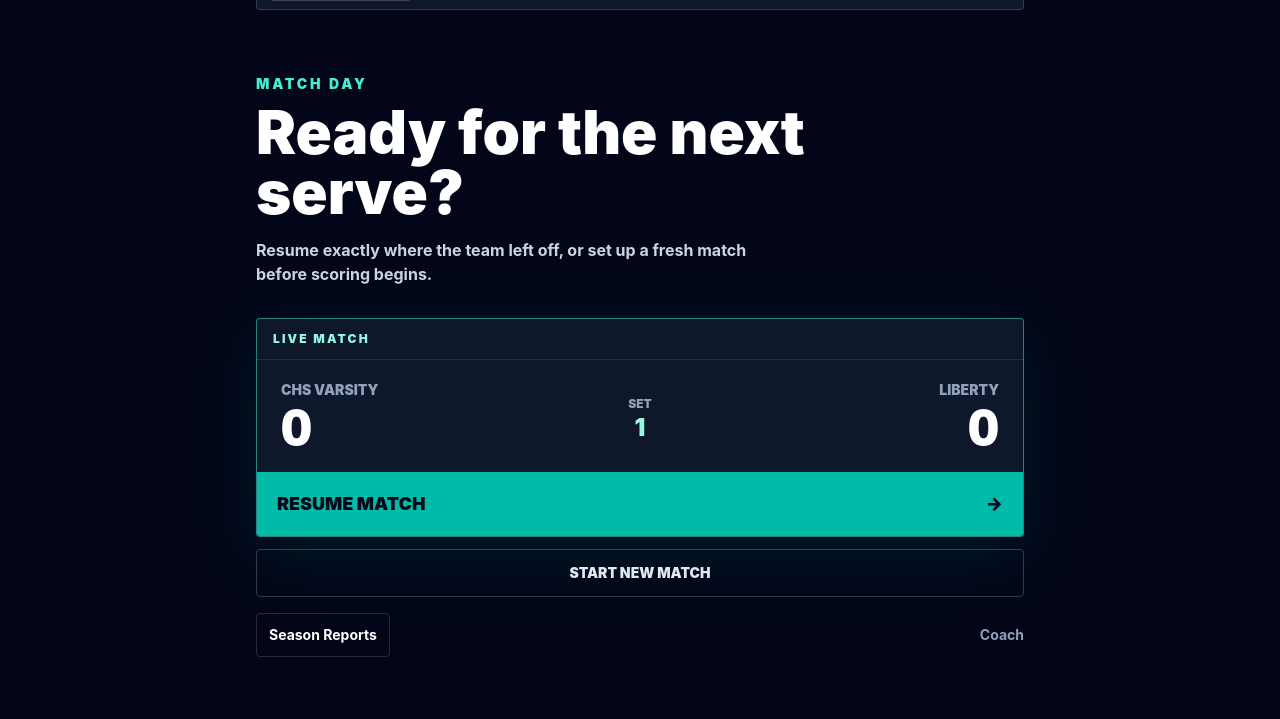
CourtsideMatchbook match launch flow › records an optional assist after selecting the attacker for a kill
(page scrolled)
Step 1. Click the button "Resume Match →" → [351, 504], box [257,472,1023,536]
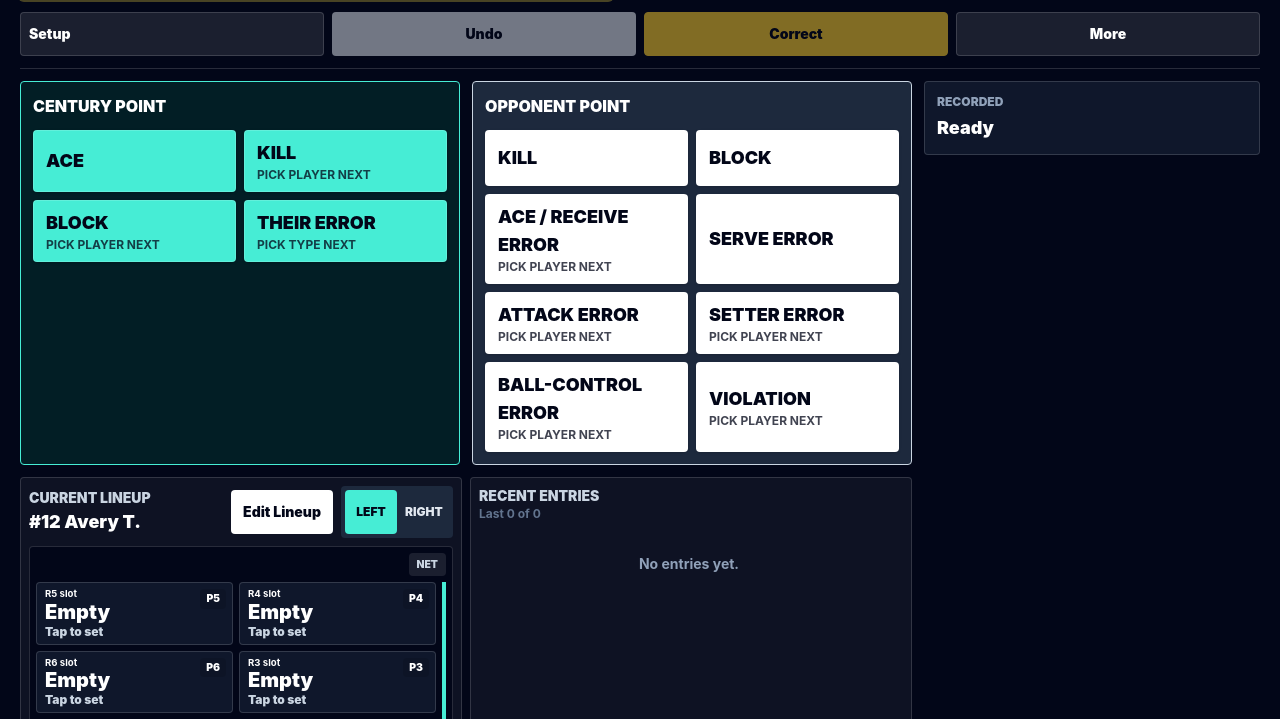
Step 2. Click the button "KILL Pick player next" → [346, 160], box [244,130,447,192]
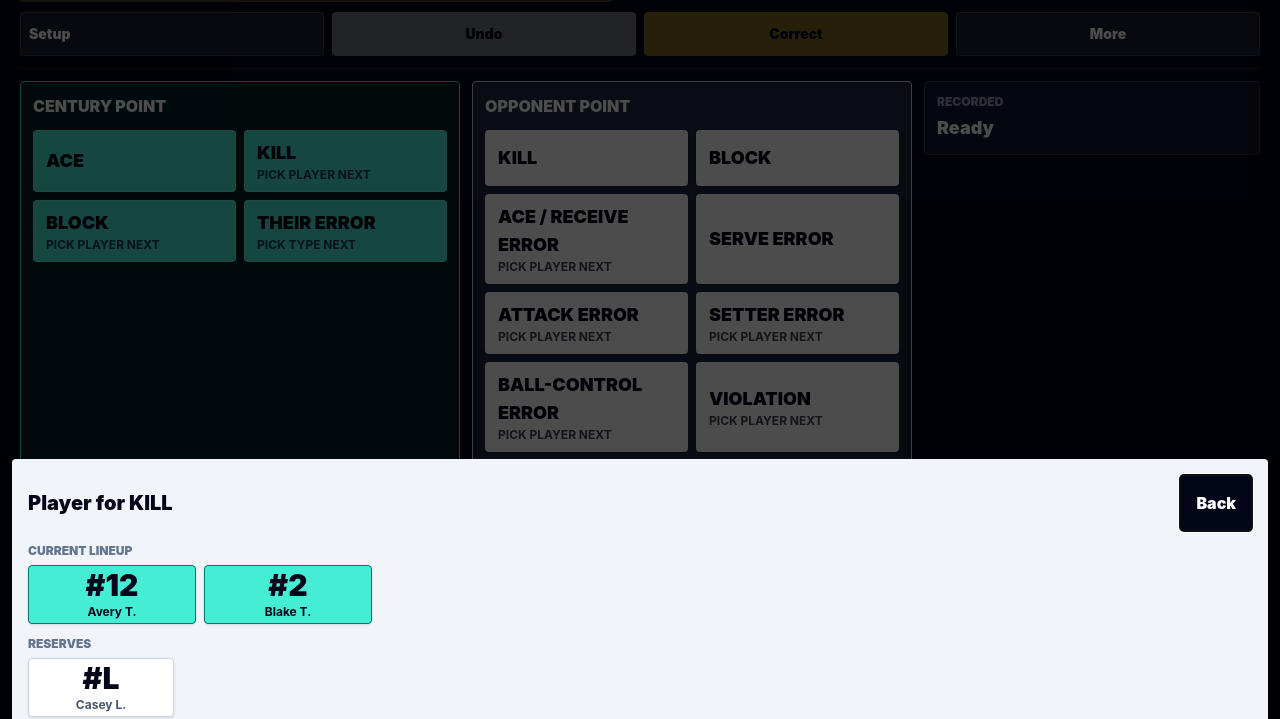
Step 3. Click the button with aria-label "Choose lineup #2 Blake T." → [288, 594], box [204,565,372,624]
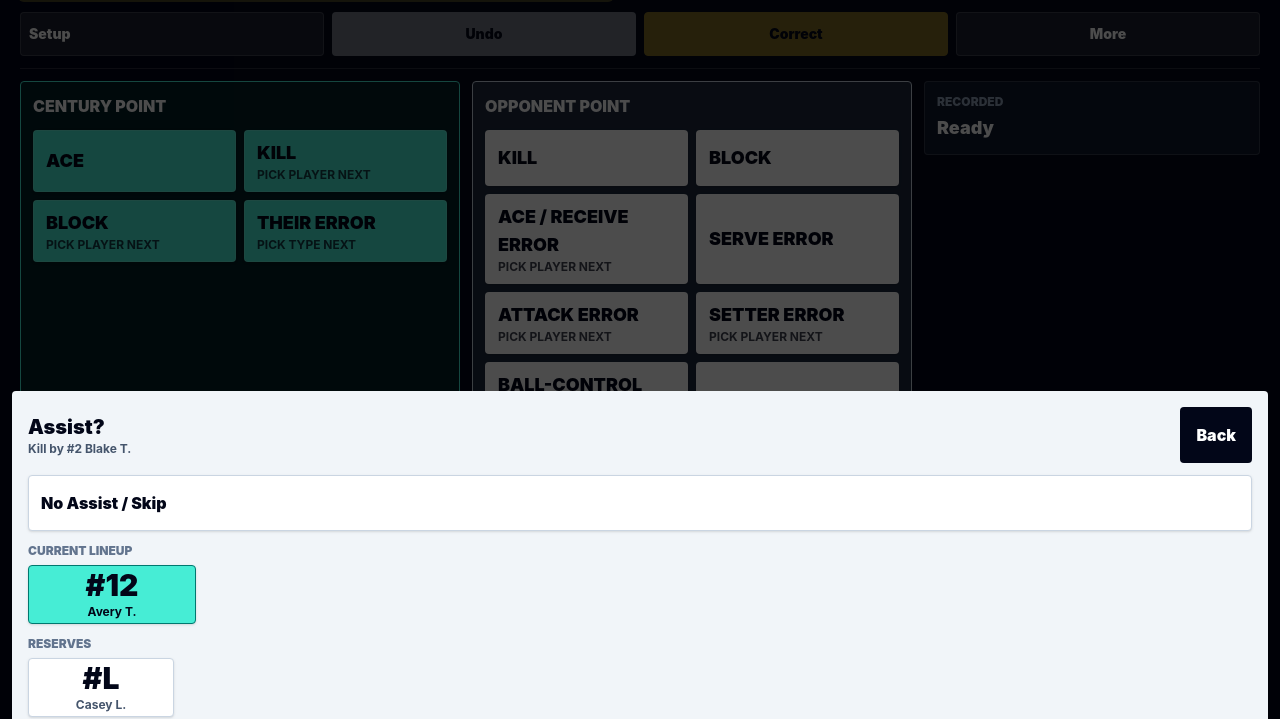
Check: the heading "Assist?" is shown, box [28,415,105,439]
Check: the text "Kill by #2 Blake T." is shown, box [28,441,131,457]
Step 4. Click the button with aria-label "Choose lineup #12 Avery T." → [112, 594], box [28,565,196,624]
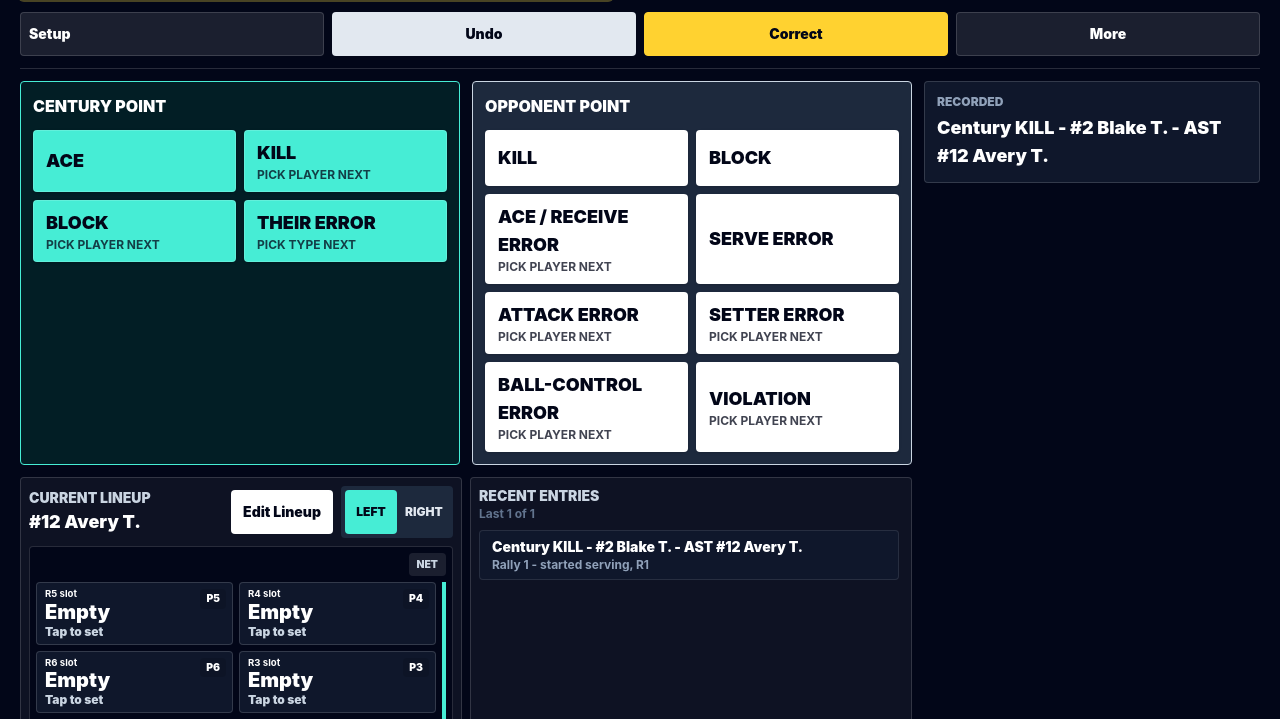
Check: the text "Century KILL - #2 Blake T. - AST #12 Avery T." is shown 2 times, box [492,538,803,554]; [937,114,1247,170]
